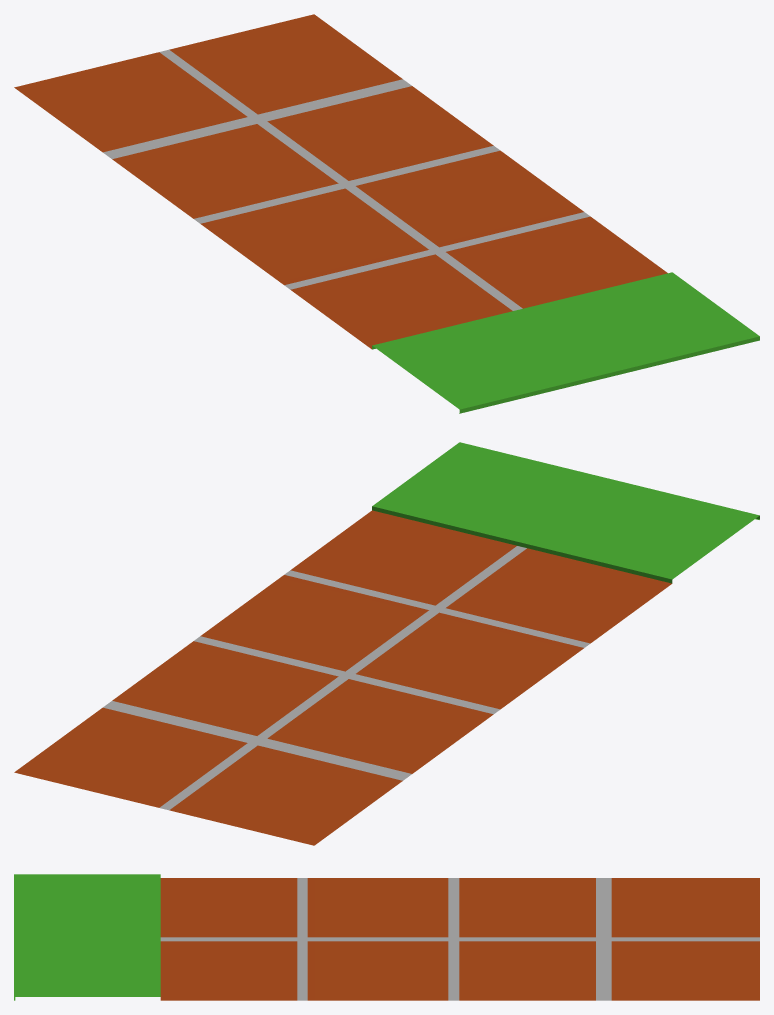
Rendered from ground_bg_01.fbx.
3 renders of one model, top to bottom at view 1: azimuth 30°, elevation 25°; view 2: azimuth 150°, elevation 25°; view 3: azimuth 270°, elevation 25°, orthographic. The views are drawn at different scales.
Parts seen in each view (by area): view 1: ground_bg_01; view 2: ground_bg_01; view 3: ground_bg_01.
Part boxes in pixels (box(x1,y1,x2,y2)): ground_bg_01: box(14, 14, 759, 413); ground_bg_01: box(14, 442, 759, 845); ground_bg_01: box(14, 874, 759, 1000).
Bounding box in the file's own units: 595 × 7.8 × 1531.
